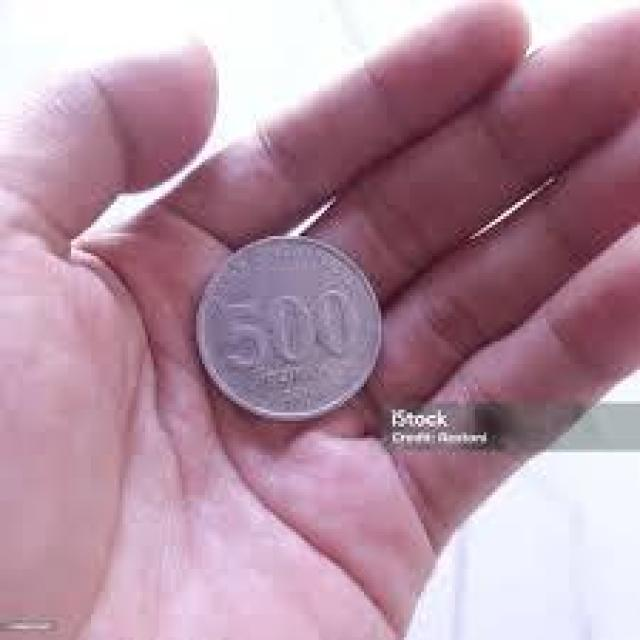500-silver: (172, 233, 394, 429)
